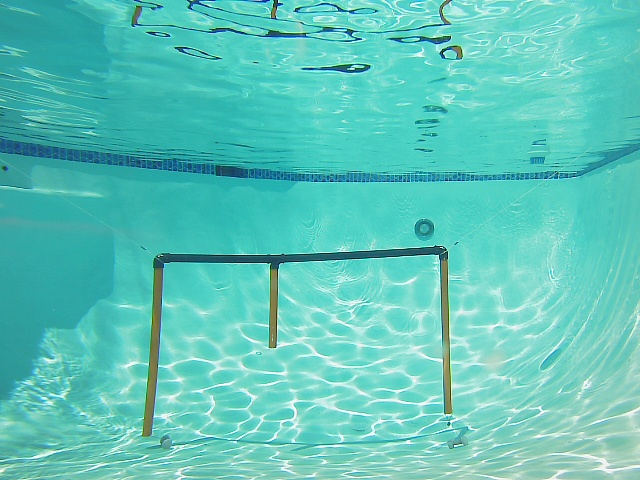Gate: (140, 265, 165, 434), (439, 256, 453, 414), (264, 265, 280, 351)
